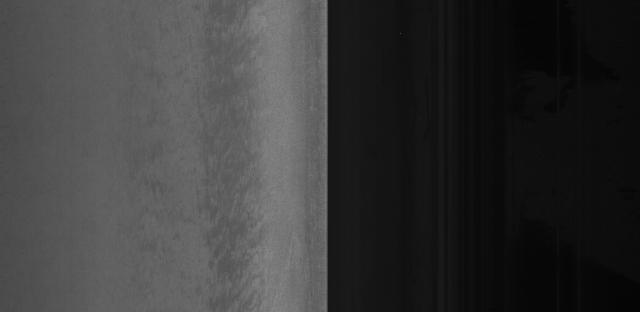silk_spot: (192, 87, 290, 267)
